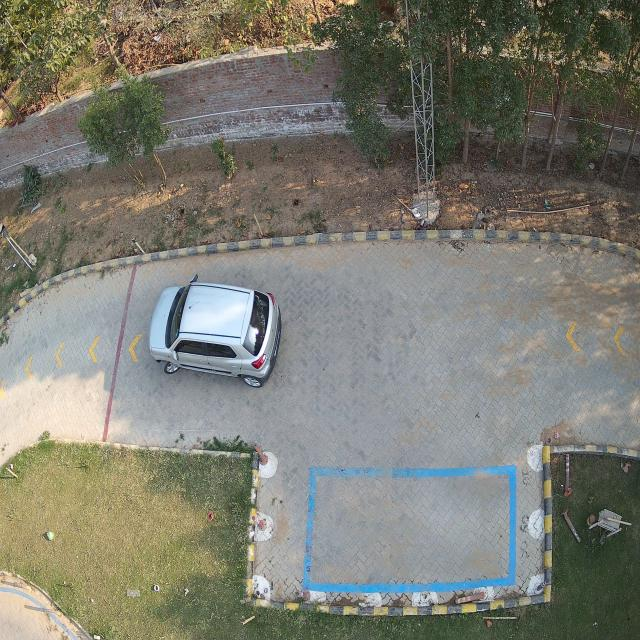car: (148, 280, 283, 389)
